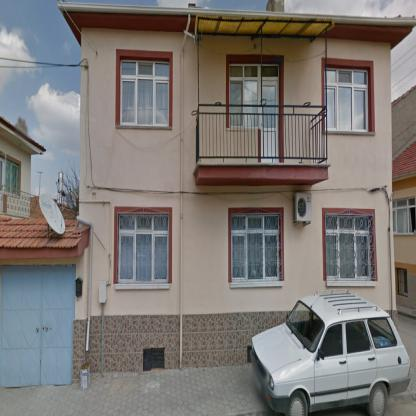door: (0, 266, 74, 386), (260, 78, 278, 162)
window: (118, 213, 169, 283), (232, 214, 280, 283), (121, 62, 169, 126), (230, 66, 278, 128), (326, 214, 371, 280), (327, 69, 367, 130), (393, 197, 415, 235), (1, 158, 20, 188), (398, 269, 407, 296)
